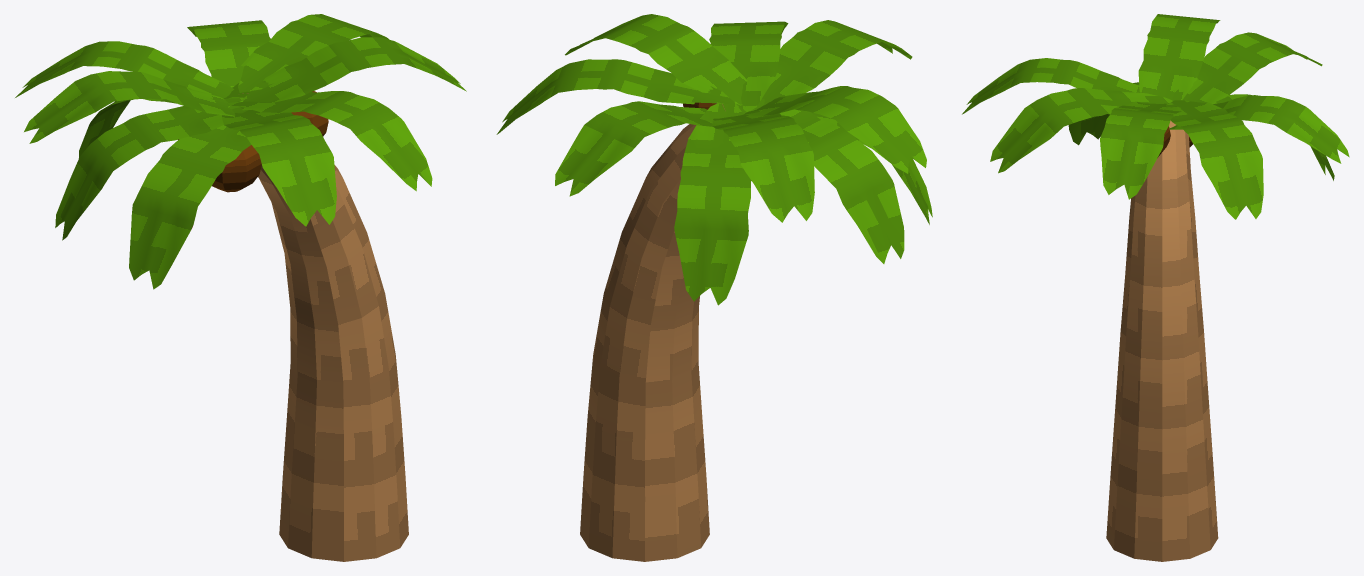
File: Palm Tree.fbx
3 renders of one model, left to right at view 1: azimuth 30°, elevation 25°; view 2: azimuth 150°, elevation 25°; view 3: azimuth 270°, elevation 25°, orthographic. The views are drawn at different scales.
Visible parts, largest first — view 1: Palm_Tree; view 2: Palm_Tree; view 3: Palm_Tree.
Part boxes in pixels (x1,y1,x2,y2): Palm_Tree: (15,14,466,561); Palm_Tree: (496,14,932,561); Palm_Tree: (962,14,1349,561).
Bounding box in the file's own units: 28.36 × 33.53 × 27.77.
1 material, 1 textured.
